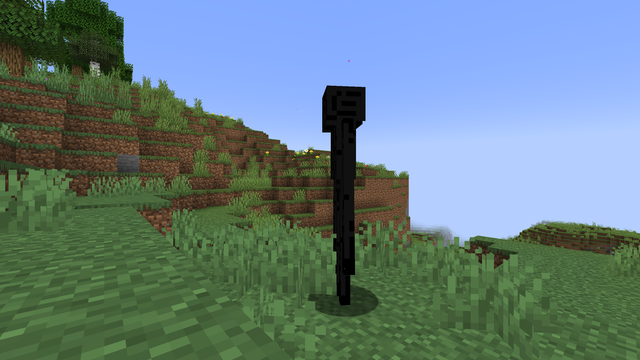endermens: (311, 73, 373, 313)
